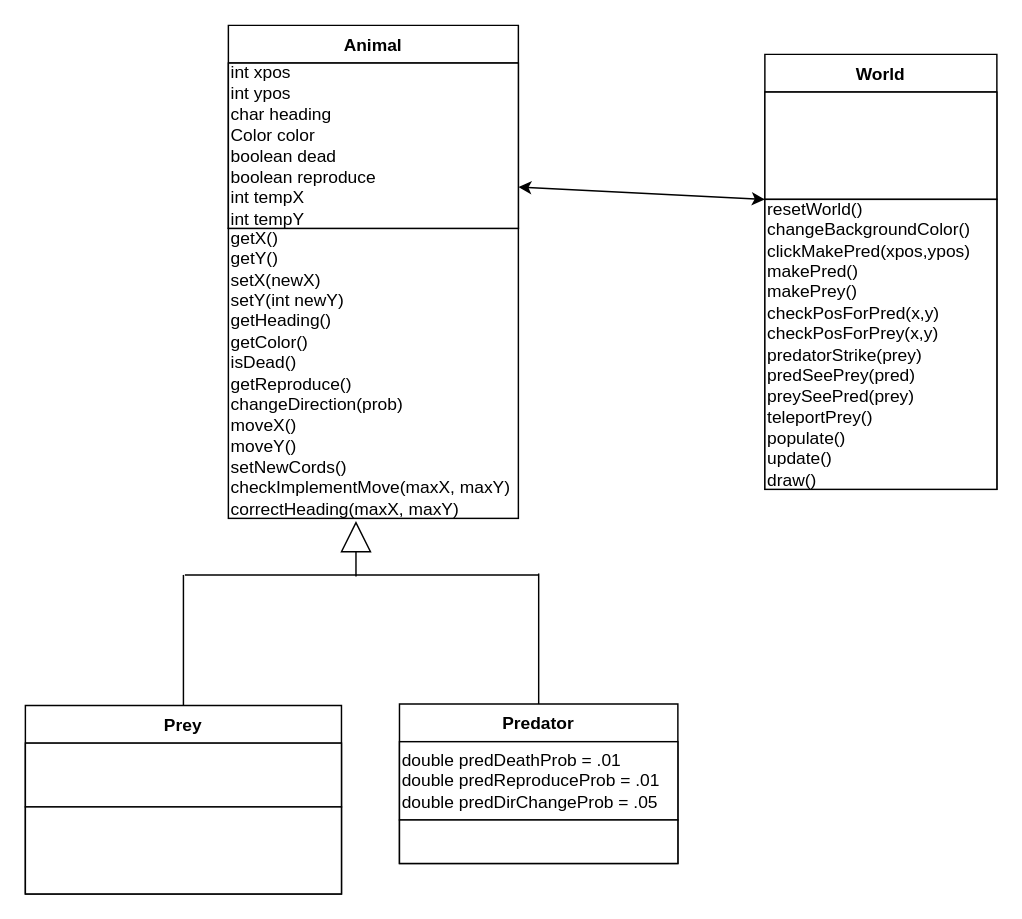
Some shapes in this 1022 by 919 pixel diagram are drawn without their labels. Each missing label, with the centre of its shape:
"ArrayList predators ArrayList prey Color canavasColor int width int height" belongs at (x=880, y=145).
"double preyReproduceProb = .005 double preyDirChangeProb = .1" belongs at (x=182, y=774).
"predatorAttack() runAway() runTurn(maxX, maxY, seePred)" belongs at (x=182, y=849).
"runTurn(maxX, maxY, seePrey)" belongs at (x=538, y=841).
